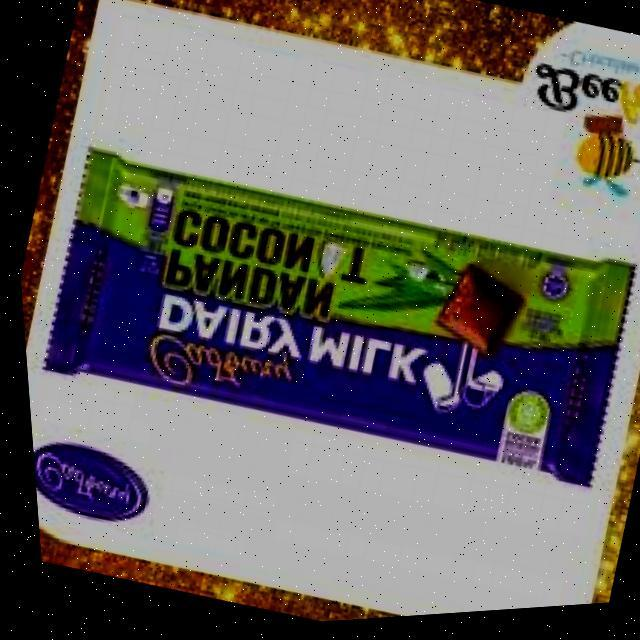cadbury_chocolate: (63, 147, 638, 500)
